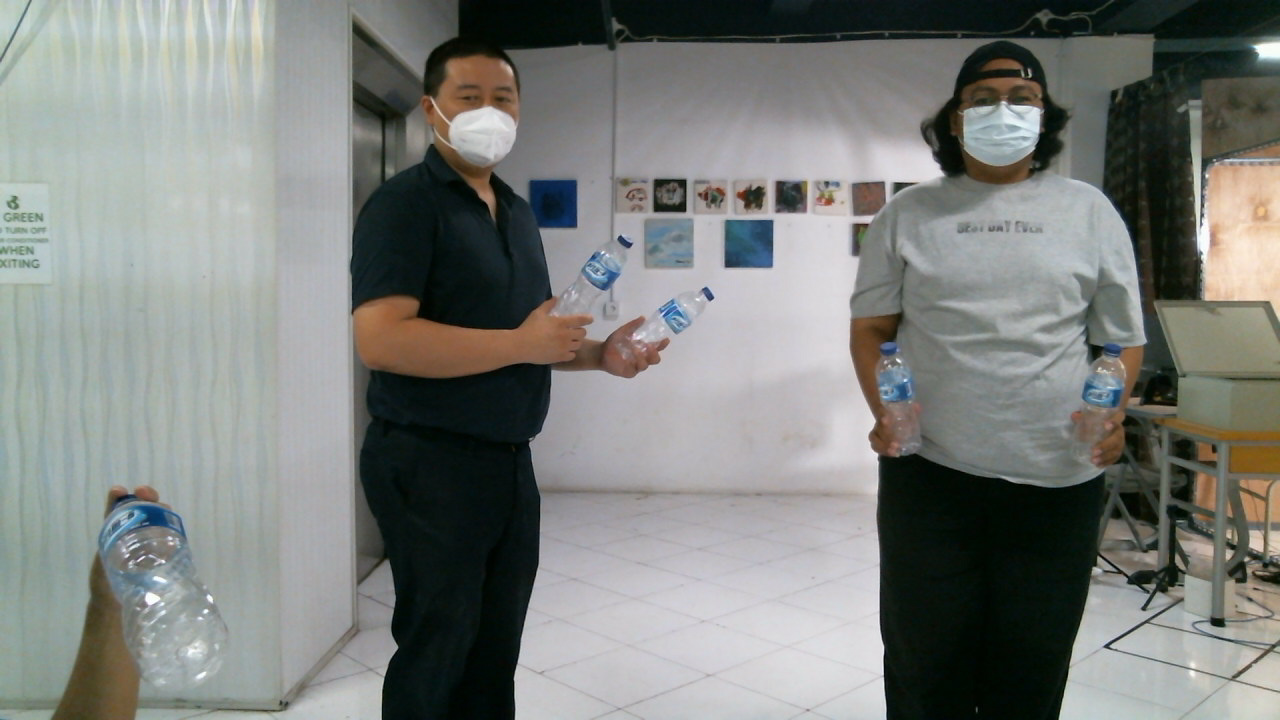Bottle: (102, 497, 228, 685), (616, 290, 715, 369), (552, 237, 634, 324), (1068, 348, 1129, 460), (873, 342, 926, 454)
